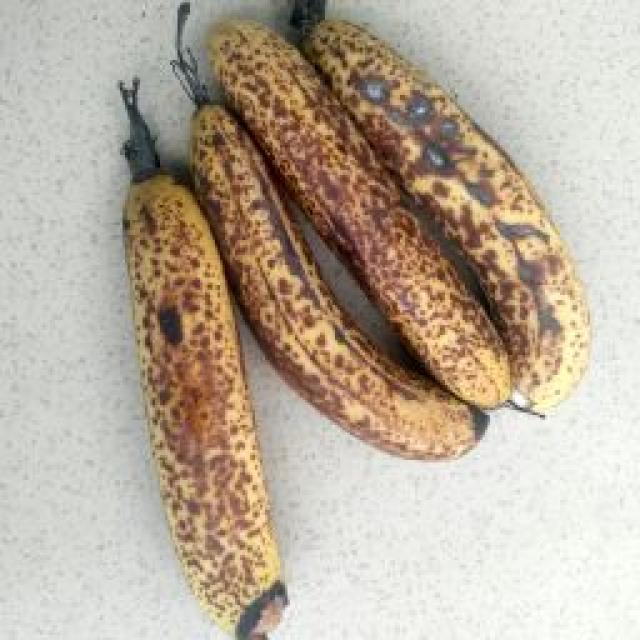banana: (80, 13, 592, 566)
